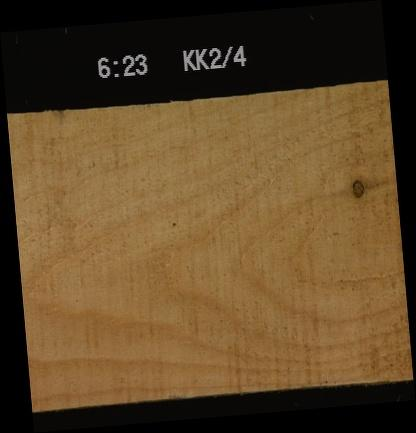dry_knot: (349, 177, 365, 200)
